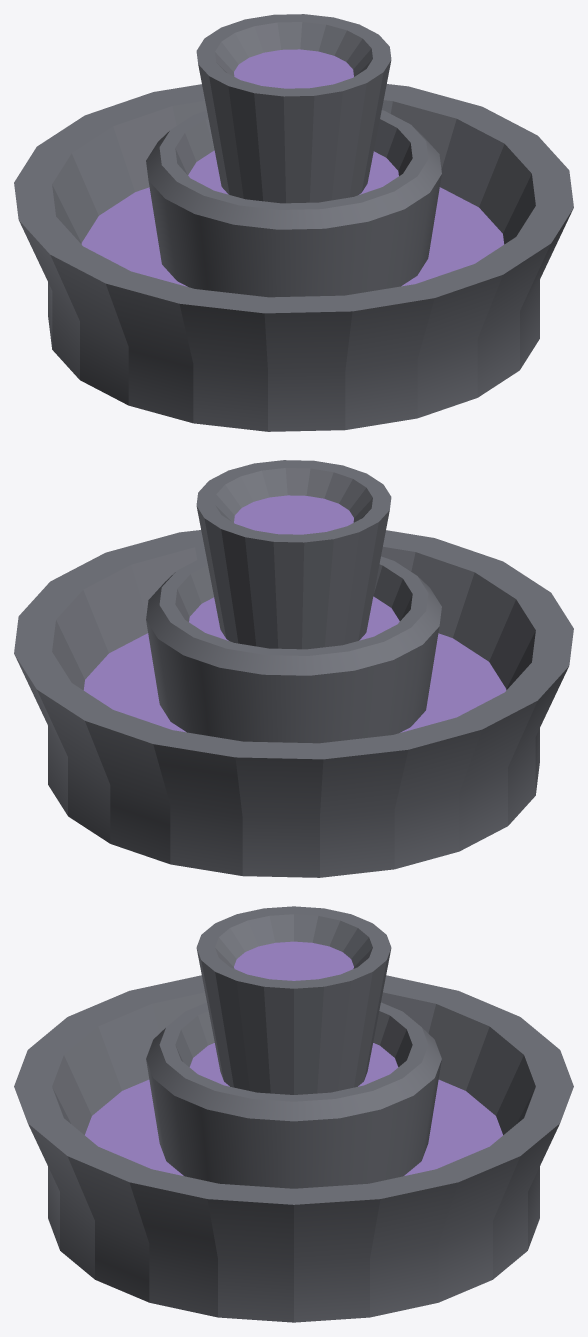
Rendered from Fountain.fbx.
3 renders of one model, top to bottom at view 1: azimuth 30°, elevation 25°; view 2: azimuth 150°, elevation 25°; view 3: azimuth 270°, elevation 25°, orthographic.
Visible parts, largest first — view 1: Fountain; view 2: Fountain; view 3: Fountain.
Part boxes in pixels (x1,y1,x2,y2): Fountain: (14, 14, 573, 431); Fountain: (14, 460, 573, 877); Fountain: (14, 906, 573, 1322).
Size of the model in its own units: 377 by 201 by 377.
